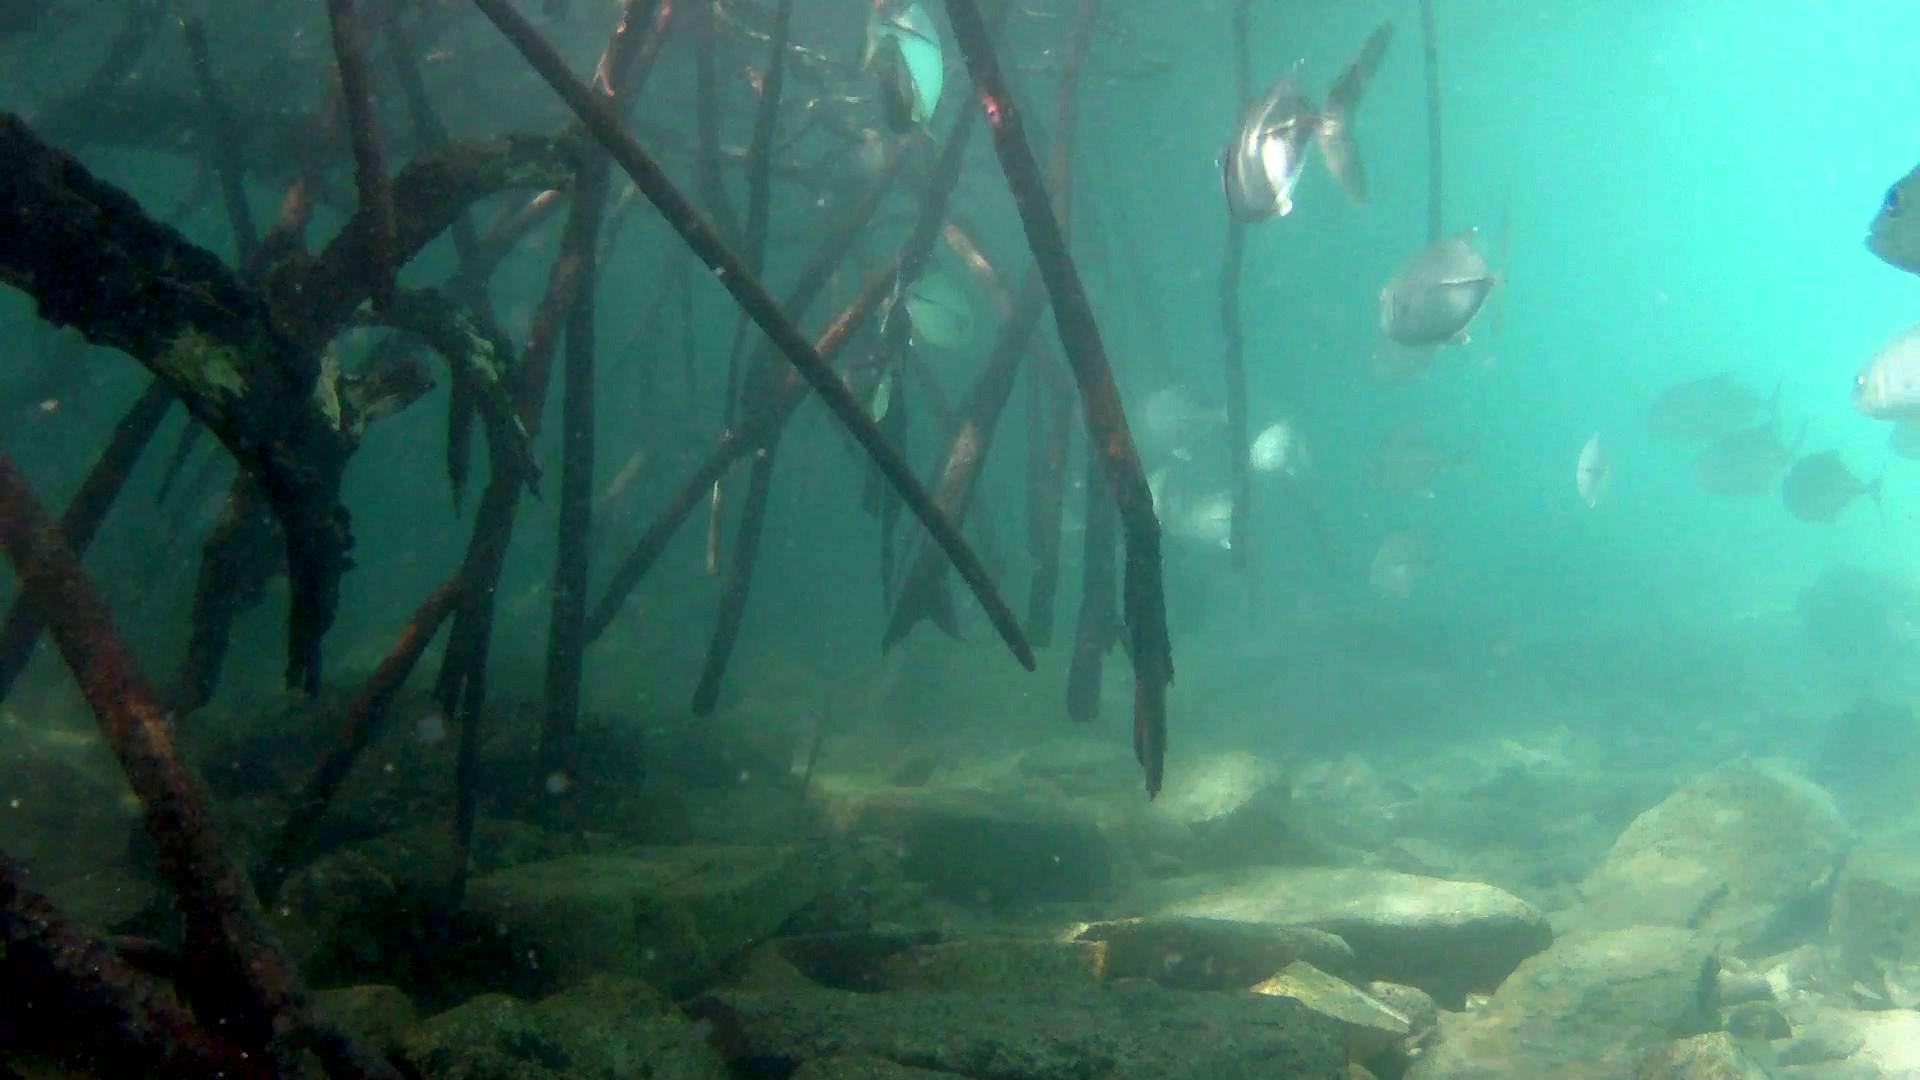caranx: (1208, 16, 1398, 231), (1855, 154, 1920, 284)
